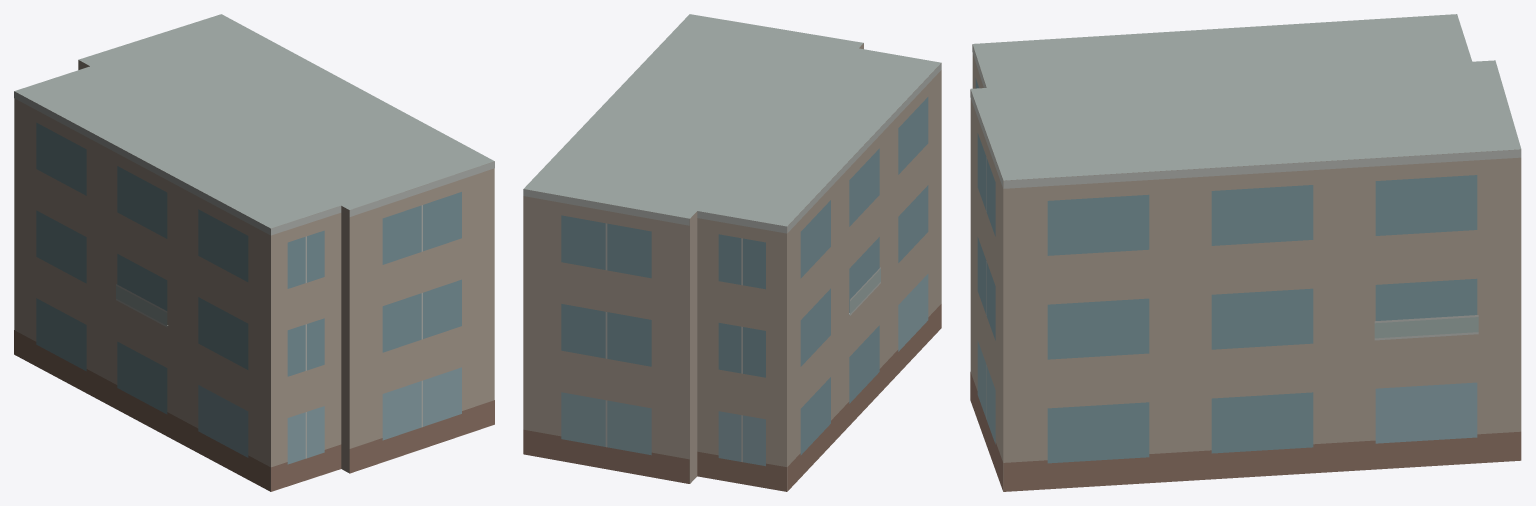
The model's file is survey-upis-32909452.glb.
The picture shows the model from 3 angles, left to right: view 1: azimuth 30°, elevation 25°; view 2: azimuth 150°, elevation 25°; view 3: azimuth 270°, elevation 25°; orthographic projection. The views are drawn at different scales.
Parts seen in each view (by area): view 1: survey-upis-32909452.tmp; view 2: survey-upis-32909452.tmp; view 3: survey-upis-32909452.tmp.
Boxes of the visible parts, bbox=[...] form: survey-upis-32909452.tmp: bbox=[14, 14, 494, 491]; survey-upis-32909452.tmp: bbox=[523, 14, 941, 491]; survey-upis-32909452.tmp: bbox=[970, 14, 1521, 491].
Size of the model in its own units: 10.51 by 9.15 by 14.69.
